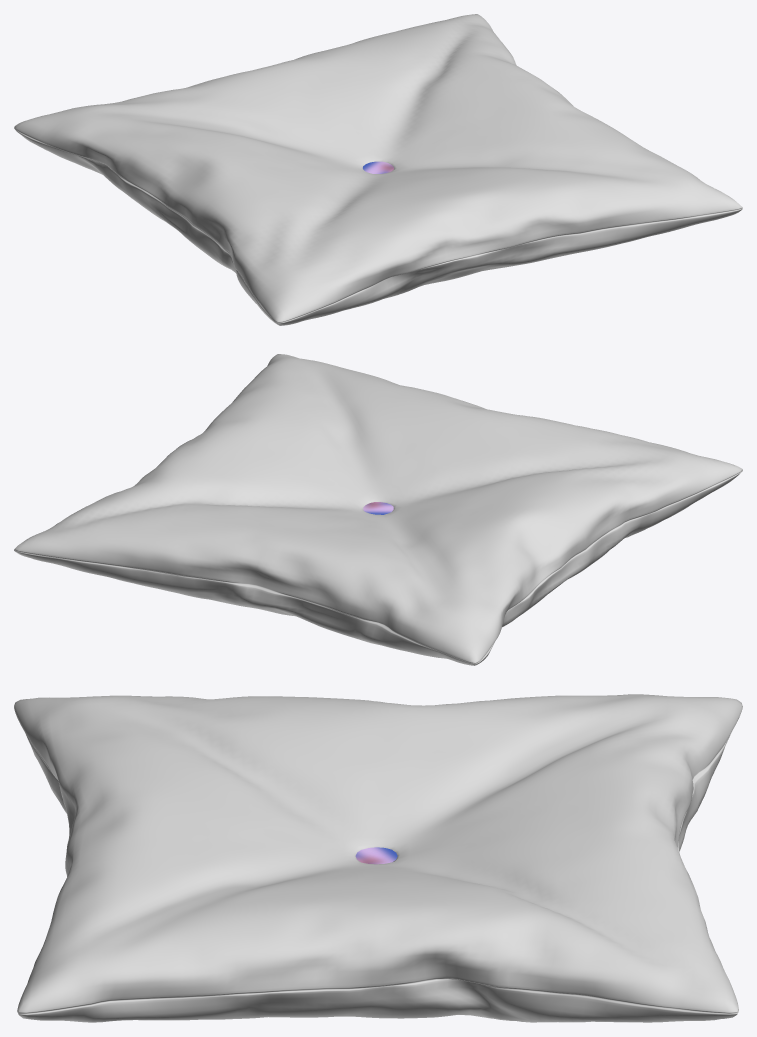
Rendered from ritaspillow_bezier-animation-test.gltf.
3 views of the same model, one above another, from view 1: azimuth 30°, elevation 25°; view 2: azimuth 150°, elevation 25°; view 3: azimuth 270°, elevation 25° (orthographic). The views are drawn at different scales.
Parts seen in each view (by area): view 1: Plane.003_final.001; view 2: Plane.003_final.001; view 3: Plane.003_final.001, Cylinder.
Part boxes in pixels (<box>): Plane.003_final.001: <box>14,14,742,325</box>; Plane.003_final.001: <box>14,354,742,665</box>; Plane.003_final.001: <box>14,694,742,1022</box>; Cylinder: <box>355,847,397,864</box>.
Bounding box in the file's own units: 1.47 × 0.2308 × 1.45.
1 material, 1 textured.
